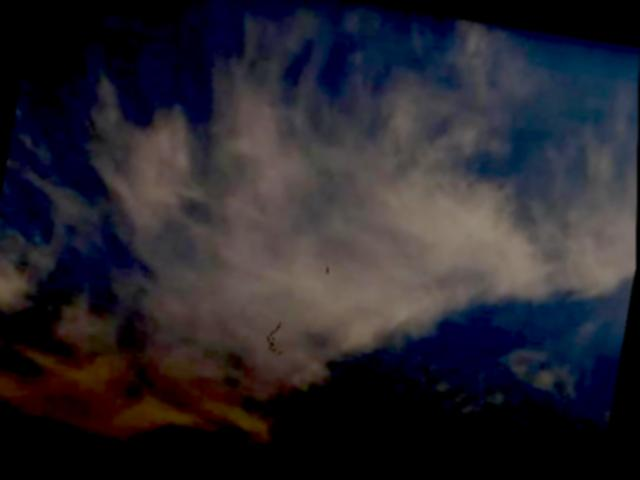iha: (325, 267, 330, 274)
